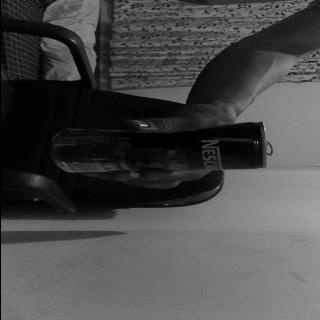alumunium_can: (51, 119, 277, 173)
